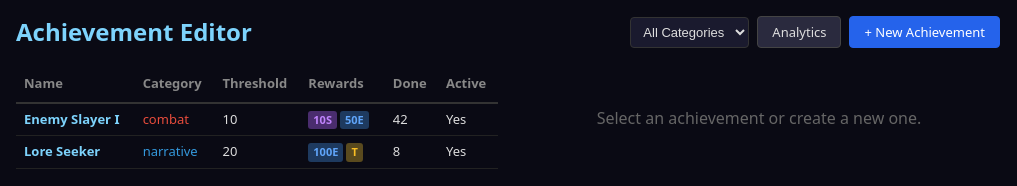
AchievementEditor › filters by category
expect the text "Enemy Slayer I" is shown: met, box [16,102,135,136]
Select "narrative" in the dropdown showing "All Categories" at coordinates (690, 32), box [630,16,749,48]
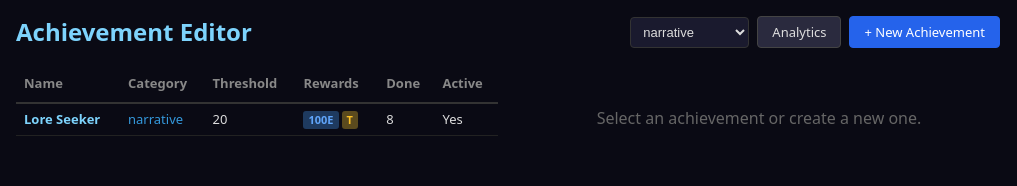
expect the text "Lore Seeker" is shown: met, box [16,102,120,136]
expect the text "Enemy Slayer I" is gone: met
